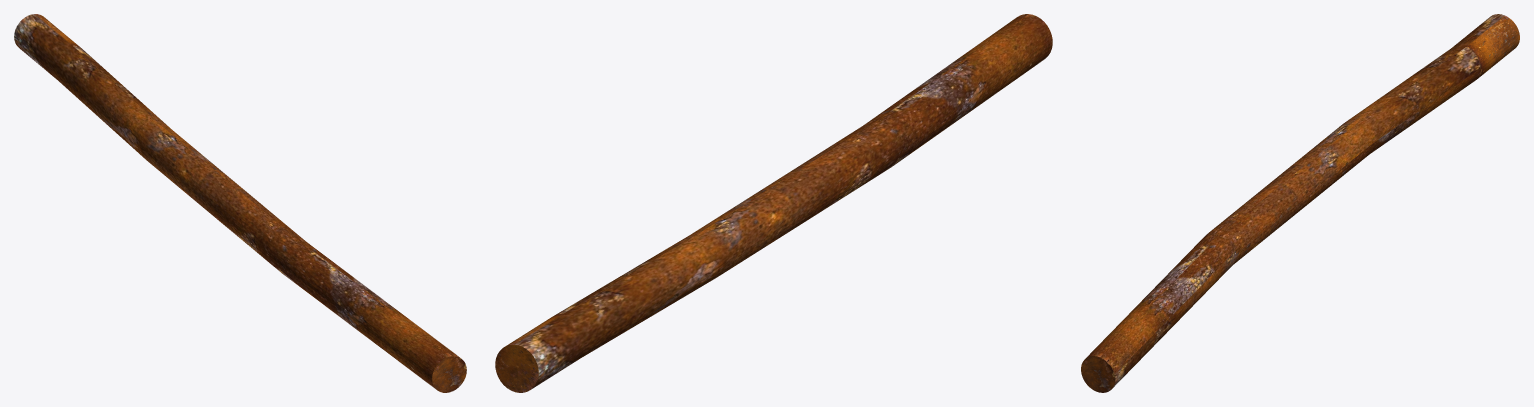
Rendered from FierroRoca3.fbx.
3 renders of one model, left to right at view 1: azimuth 30°, elevation 25°; view 2: azimuth 150°, elevation 25°; view 3: azimuth 330°, elevation 25°, orthographic. The views are drawn at different scales.
Visible parts, largest first — view 1: Cylinder.010; view 2: Cylinder.010; view 3: Cylinder.010.
Boxes of the visible parts, x1=… form: Cylinder.010: x1=14, y1=14, x2=466, y2=392; Cylinder.010: x1=495, y1=14, x2=1052, y2=392; Cylinder.010: x1=1081, y1=14, x2=1519, y2=392.
Size of the model in its own units: 58.17 by 84.54 by 814.
